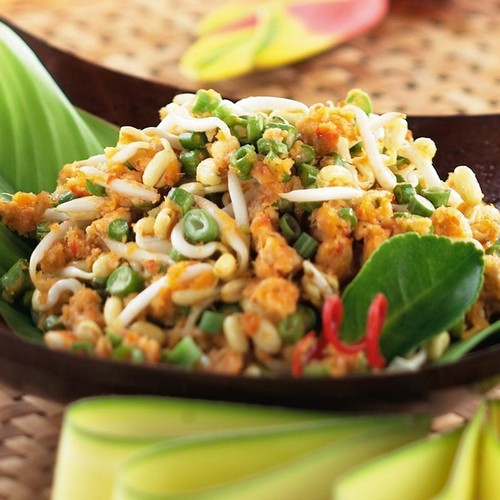lawar: (102, 130, 328, 356)
